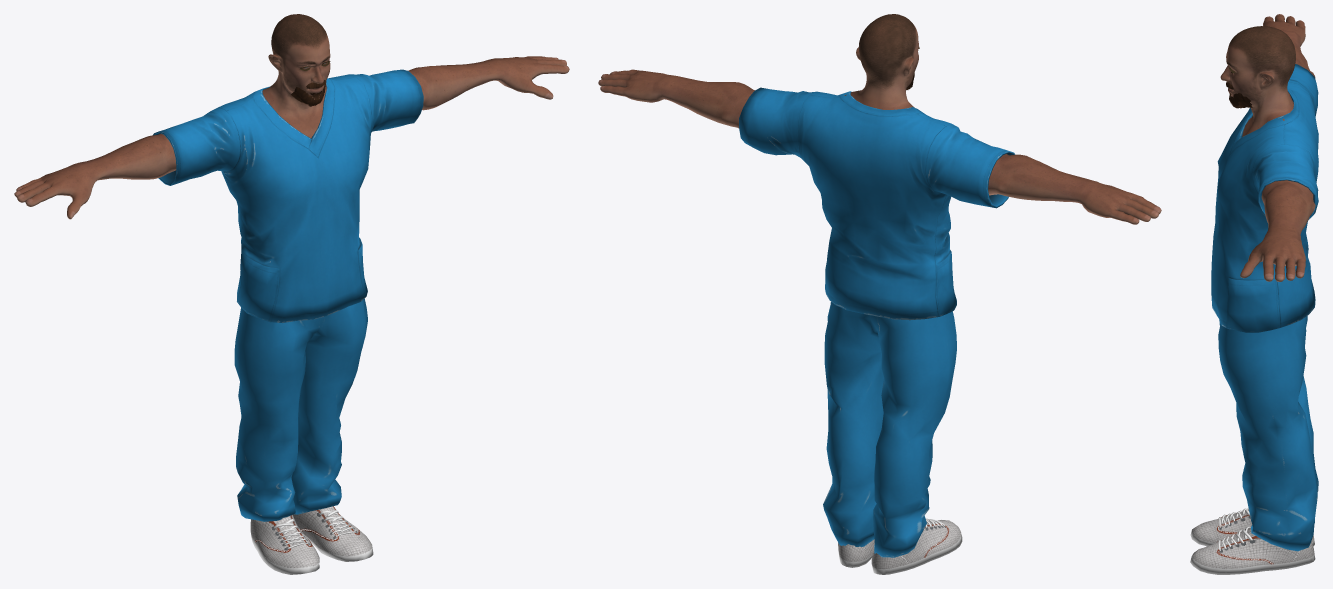
File: medicoNovo.obj
3 views of the same model, side by side, from view 1: azimuth 30°, elevation 25°; view 2: azimuth 150°, elevation 25°; view 3: azimuth 270°, elevation 25° (orthographic).
Visible parts, largest first — view 1: Tops, Bottoms, Body, Shoes; view 2: Tops, Bottoms, Body, Shoes; view 3: Tops, Bottoms, Body, Shoes, Beards.
Part boxes in pixels (bbox=[...]): Tops: bbox=[153, 69, 423, 322]; Bottoms: bbox=[234, 299, 367, 521]; Body: bbox=[14, 14, 569, 523]; Shoes: bbox=[250, 506, 373, 574]; Tops: bbox=[739, 87, 1014, 320]; Bottoms: bbox=[823, 302, 956, 557]; Body: bbox=[598, 14, 1161, 224]; Shoes: bbox=[838, 518, 962, 574]; Tops: bbox=[1211, 64, 1318, 332]; Bottoms: bbox=[1218, 316, 1318, 551]; Body: bbox=[1220, 14, 1315, 281]; Shoes: bbox=[1190, 508, 1315, 574]; Beards: bbox=[1229, 92, 1252, 108].
Bounding box in the file's own units: 192 × 176 × 39.1.
Materials: 6 (6 with a texture image).
